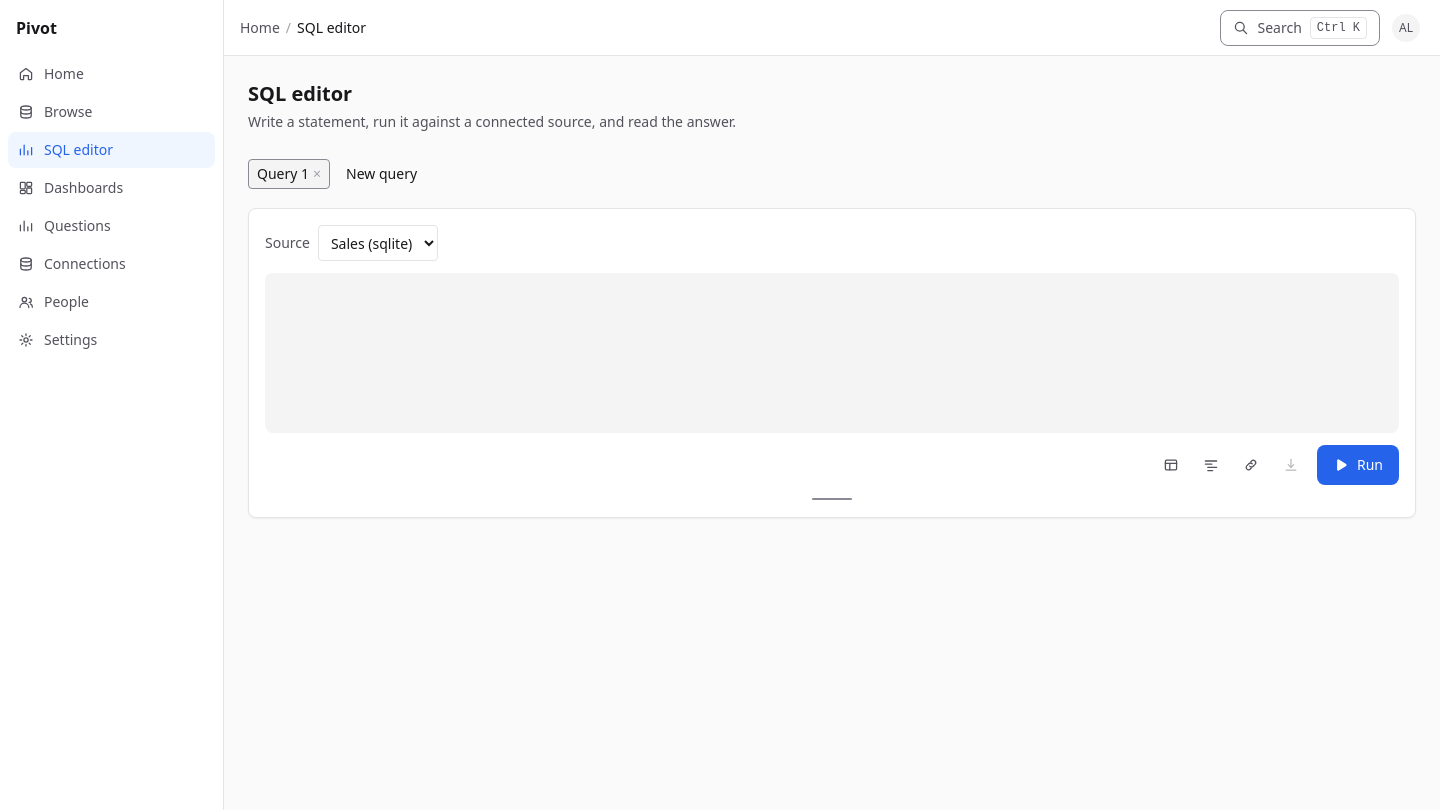
Scenario: running a statement › shows the rows it got back
Click the button "Run". click: [1358, 465]
box: left=1317, top=445, right=1399, bottom=485
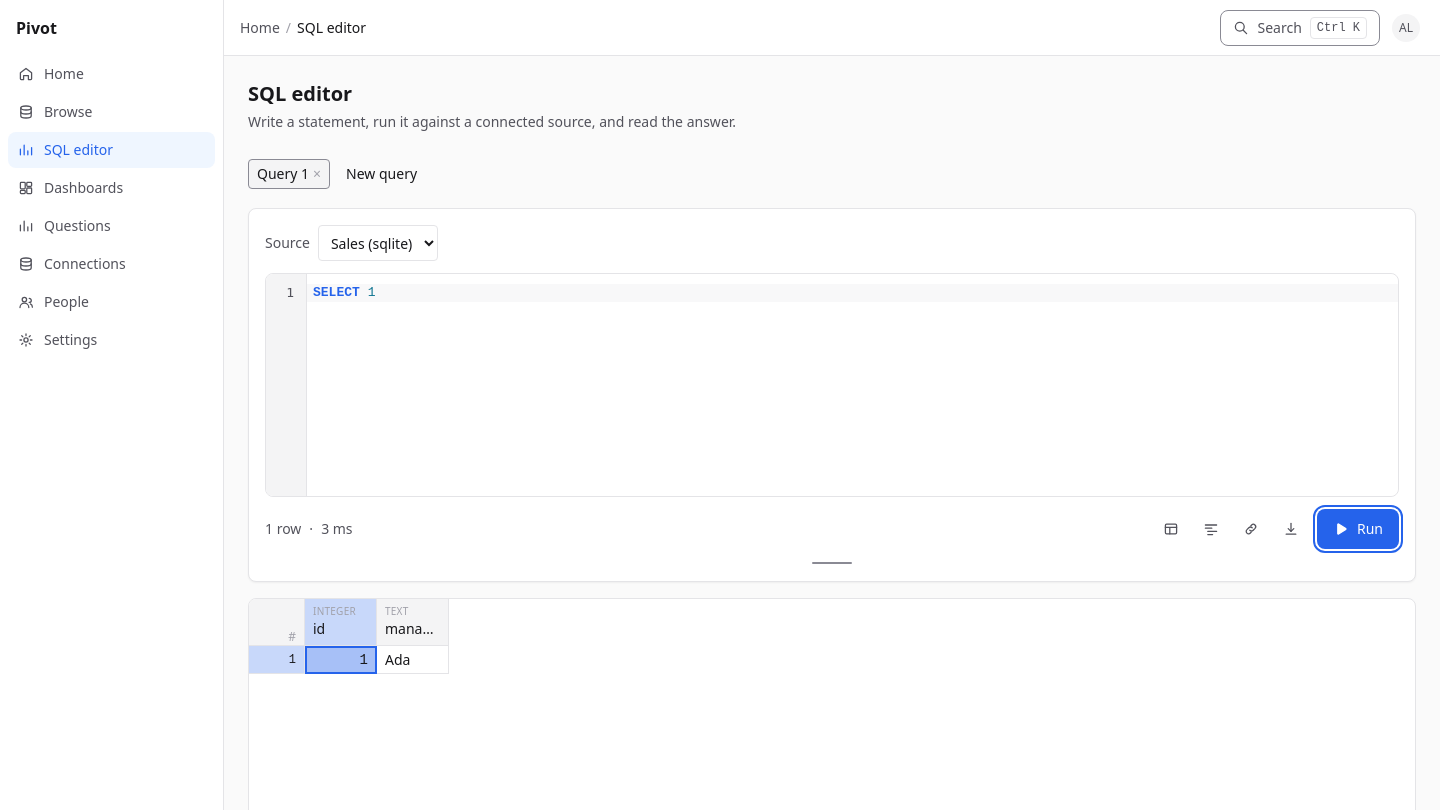
Expected: the text "Ada" is shown, left=377, top=646, right=449, bottom=674
Expected: the text "INTEGER" is shown, left=313, top=604, right=356, bottom=618
